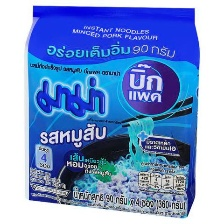snack: (18, 0, 207, 224)
